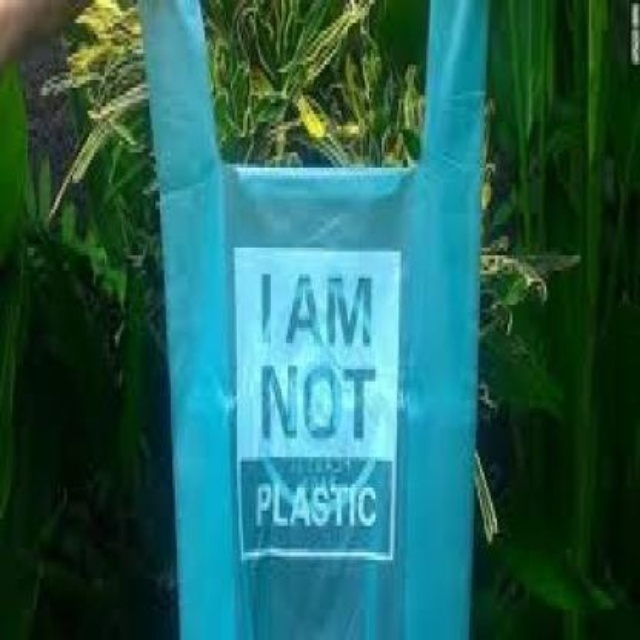trash: (143, 0, 486, 638), (232, 246, 402, 565)
